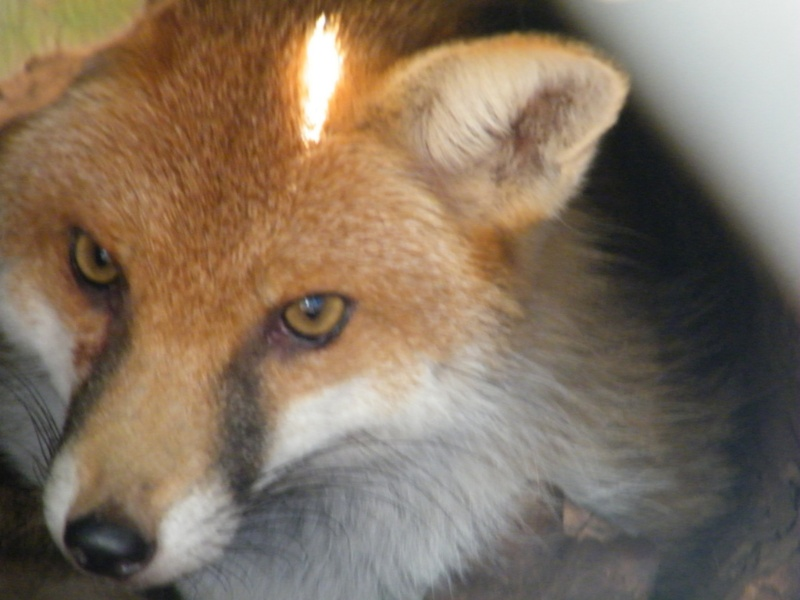fox: (4, 1, 665, 600)
